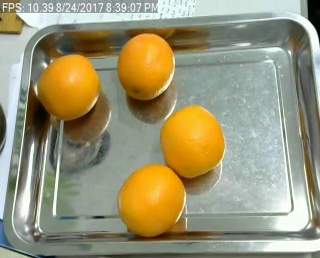Orange: (117, 166, 186, 237), (161, 105, 225, 177), (38, 53, 100, 119), (116, 31, 175, 99)
